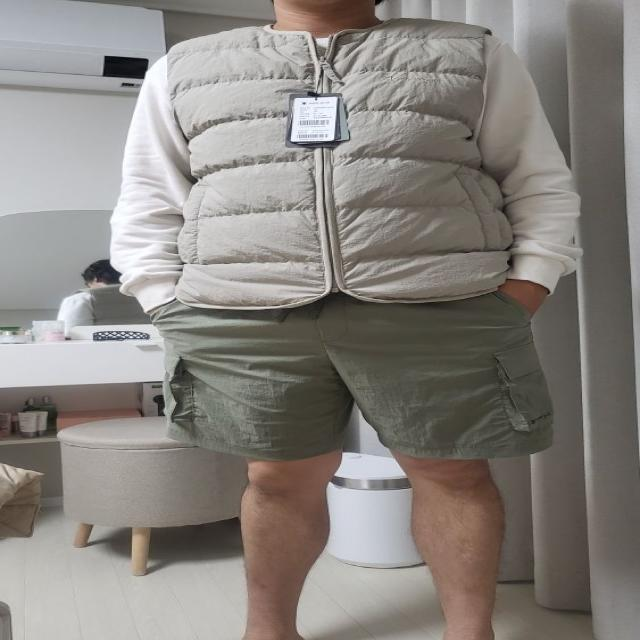longsleeve: (110, 28, 586, 313)
padding: (169, 14, 508, 309)
shortpants: (159, 284, 551, 463)
